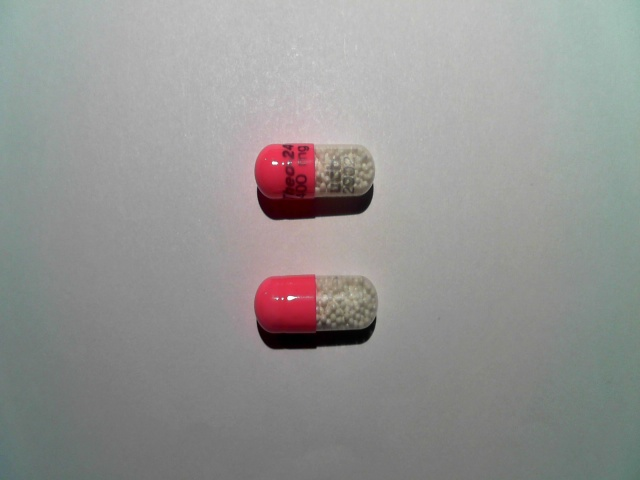capsule: (254, 272, 380, 331), (253, 141, 374, 198)
